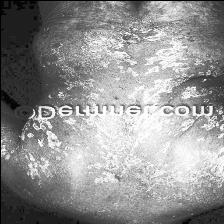Non-Cancerous Skin Condition: (15, 121, 224, 191), (46, 24, 224, 96)
